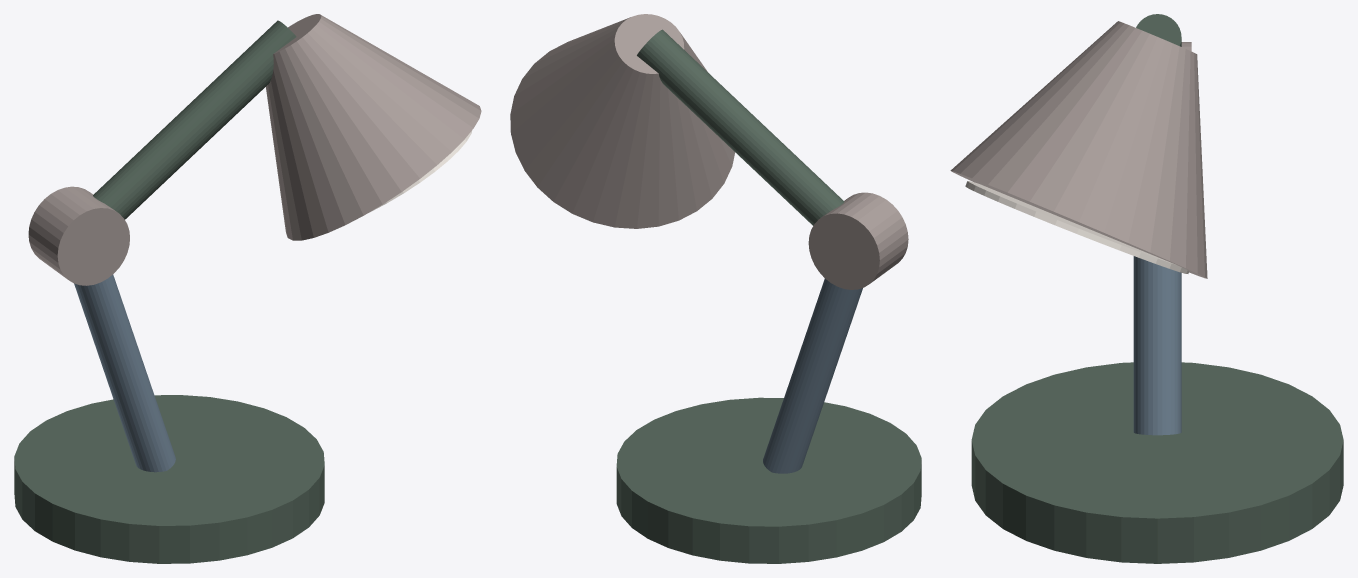
The model's file is lamp.glb.
The picture shows the model from 3 angles, left to right: view 1: azimuth 30°, elevation 25°; view 2: azimuth 150°, elevation 25°; view 3: azimuth 270°, elevation 25°; orthographic projection. The views are drawn at different scales.
Visible parts, largest first — view 1: base, shade, upper arm, lower arm, joint; view 2: base, shade, upper arm, lower arm, joint; view 3: base, shade, lower arm, diffuser, upper arm.
Boxes of the visible parts, x1,y1,x2,y2 form: base: (14,395,324,563); shade: (266,14,481,240); upper arm: (93,20,296,219); lower arm: (74,274,175,472); joint: (28,186,129,285); base: (616,397,921,563); shade: (510,14,735,228); upper arm: (637,29,844,225); lower arm: (763,278,862,473); joint: (808,192,908,289); base: (971,362,1343,563); shade: (950,21,1207,278); lower arm: (1133,256,1181,435); diffuser: (965,181,1189,273); upper arm: (1136,14,1181,46).
Size of the model in its own units: 1.58 by 1.67 by 1.1.
